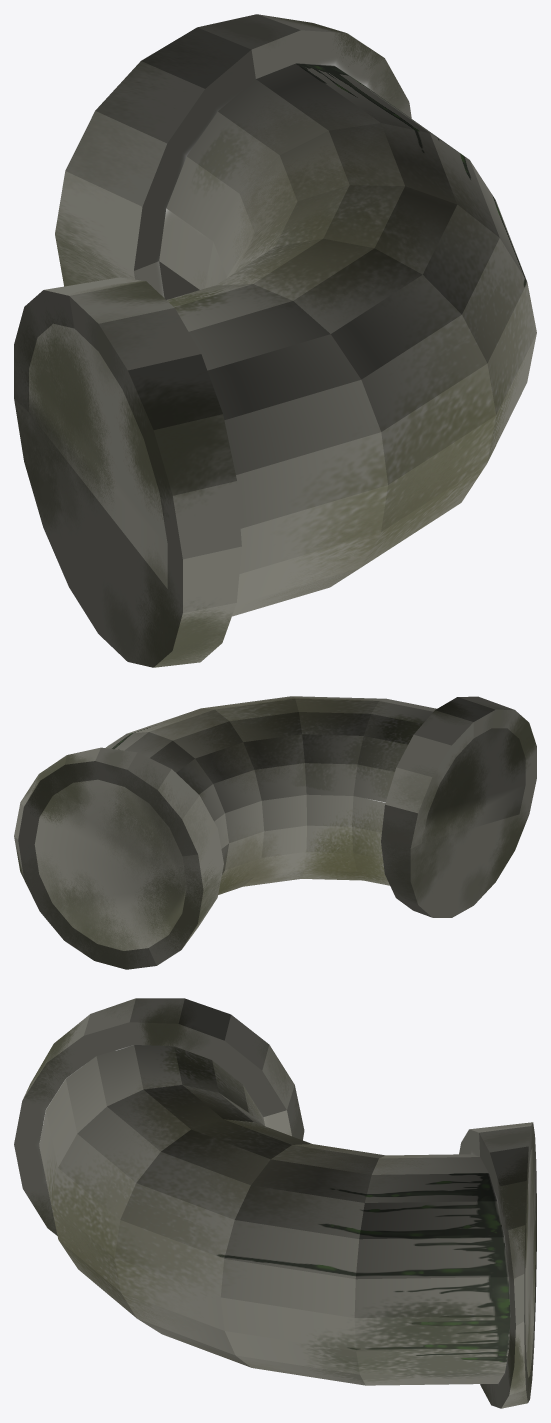
The model's file is Pijp_gebogen.fbx.
3 views of the same model, one above another, from view 1: azimuth 30°, elevation 25°; view 2: azimuth 150°, elevation 25°; view 3: azimuth 270°, elevation 25° (orthographic). The views are drawn at different scales.
Visible parts, largest first — view 1: Cylinder001.1; view 2: Cylinder001.1; view 3: Cylinder001.1.
Part boxes in pixels (x1,y1,x2,y2): Cylinder001.1: (14,14,536,667); Cylinder001.1: (14,696,536,969); Cylinder001.1: (14,998,536,1408).
Size of the model in its own units: 10034 by 5799 by 10790.
1 material, 1 textured.
